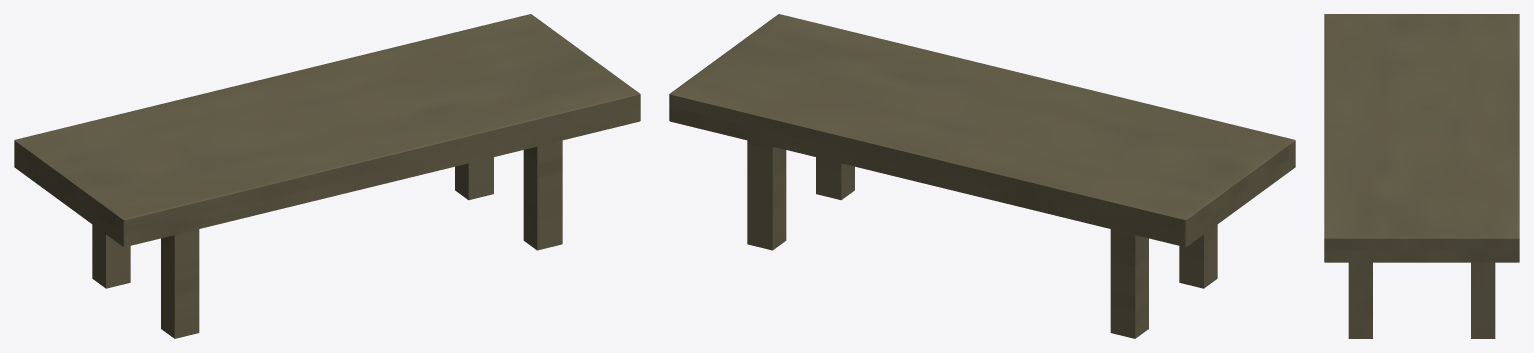
The model's file is TVStand.glb.
3 renders of one model, left to right at view 1: azimuth 30°, elevation 25°; view 2: azimuth 150°, elevation 25°; view 3: azimuth 270°, elevation 25°, orthographic. The views are drawn at different scales.
Parts seen in each view (by area): view 1: TVStand_Baked; view 2: TVStand_Baked; view 3: TVStand_Baked.
Part boxes in pixels (box(x1,y1,x2,y2)): TVStand_Baked: box(14, 14, 640, 338); TVStand_Baked: box(669, 14, 1295, 338); TVStand_Baked: box(1324, 14, 1519, 338).
Bounding box in the file's own units: 9.22 × 2.47 × 3.39.
Materials: 1 (1 with a texture image).
